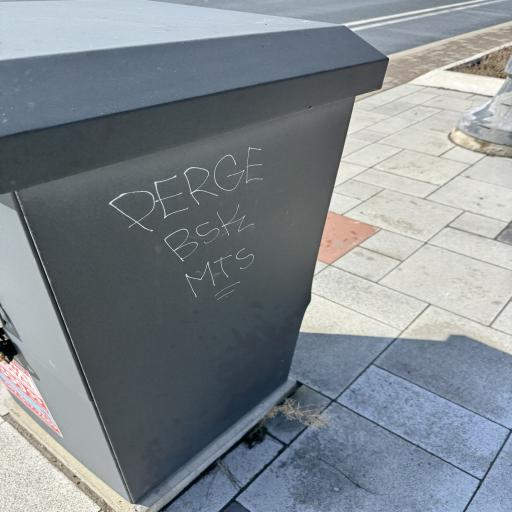Electrical Box: (3, 0, 392, 505)
